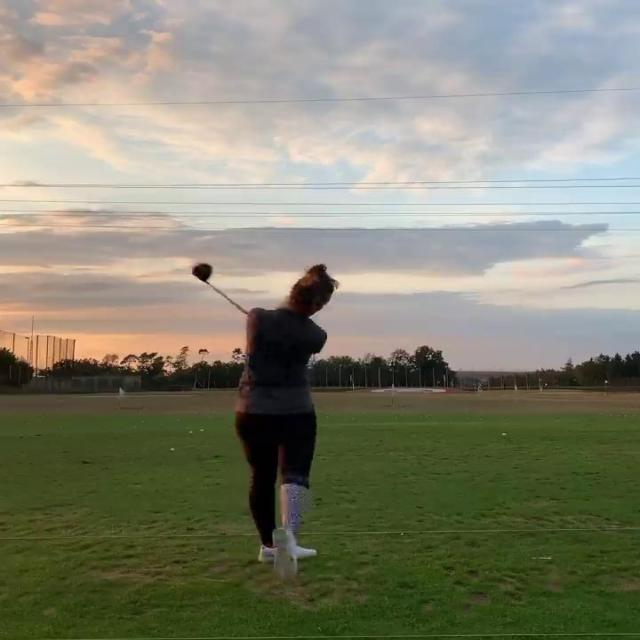golf club-handle: (191, 263, 248, 317)
golf club-head: (191, 263, 213, 280)
